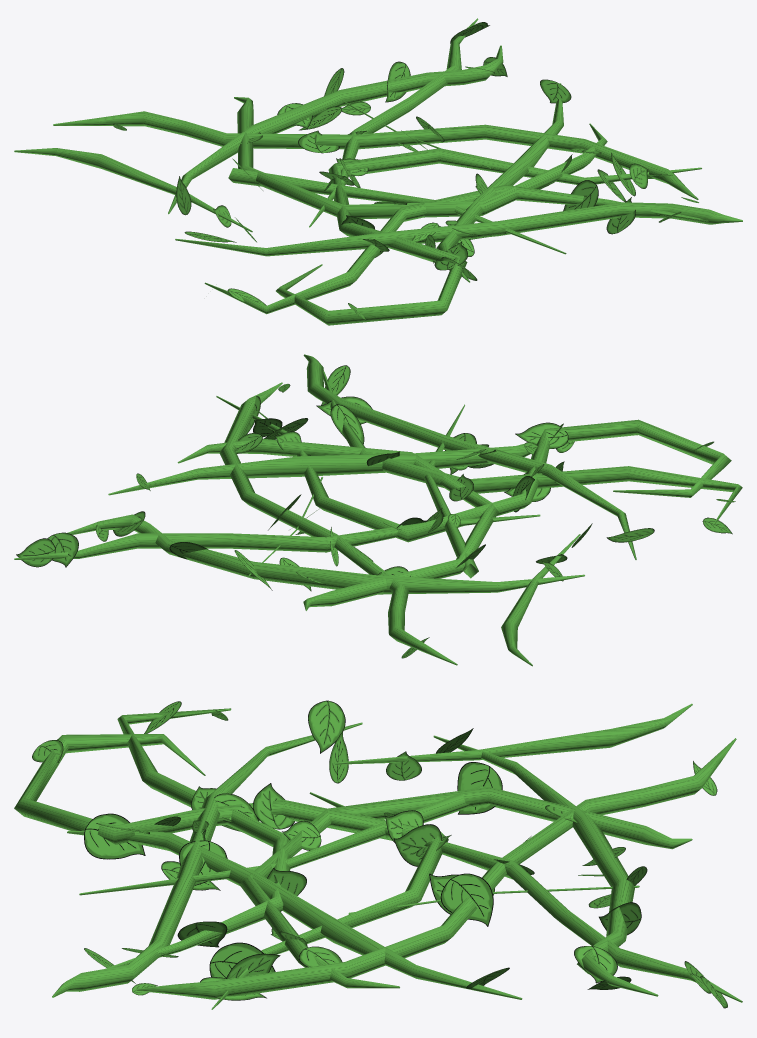
File: Branches.fbx
3 renders of one model, top to bottom at view 1: azimuth 30°, elevation 25°; view 2: azimuth 150°, elevation 25°; view 3: azimuth 270°, elevation 25°, orthographic. The views are drawn at different scales.
Visible parts, largest first — view 1: NurbsPath.002, NurbsPath.001; view 2: NurbsPath.002, NurbsPath.001; view 3: NurbsPath.002, NurbsPath.001.
Boxes of the visible parts, <box> form: NurbsPath.002: <box>14,18,742,325</box>; NurbsPath.001: <box>113,22,698,320</box>; NurbsPath.002: <box>14,354,742,666</box>; NurbsPath.001: <box>16,365,735,658</box>; NurbsPath.002: <box>14,703,742,1009</box>; NurbsPath.001: <box>32,700,727,1008</box>.
Size of the model in its own units: 424 by 51.16 by 422.
